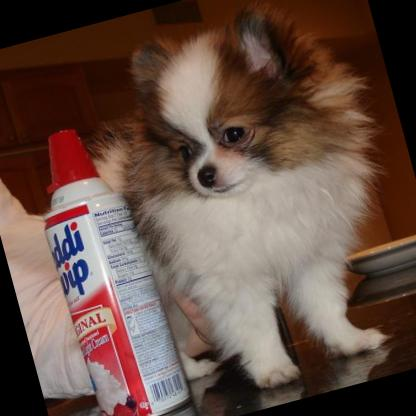Pomeranian: (53, 0, 416, 416)
